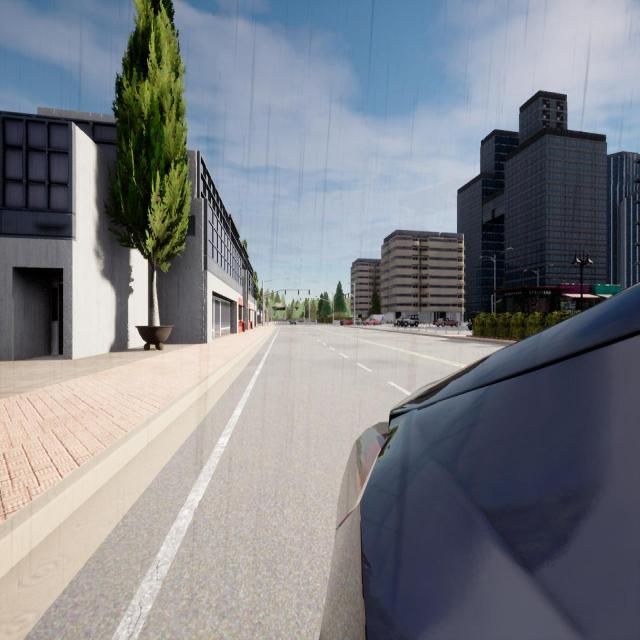Vehicle: (321, 286, 640, 640), (394, 314, 418, 326), (365, 314, 384, 325), (437, 318, 458, 327), (467, 311, 475, 329), (341, 320, 353, 326), (290, 319, 296, 325), (355, 318, 360, 324), (299, 319, 304, 323)
traffic_light: (332, 310, 334, 313), (298, 290, 299, 295), (309, 290, 310, 295), (345, 294, 346, 298), (285, 290, 286, 294), (348, 294, 349, 298), (300, 298, 301, 301), (308, 298, 309, 301), (318, 299, 318, 301)
